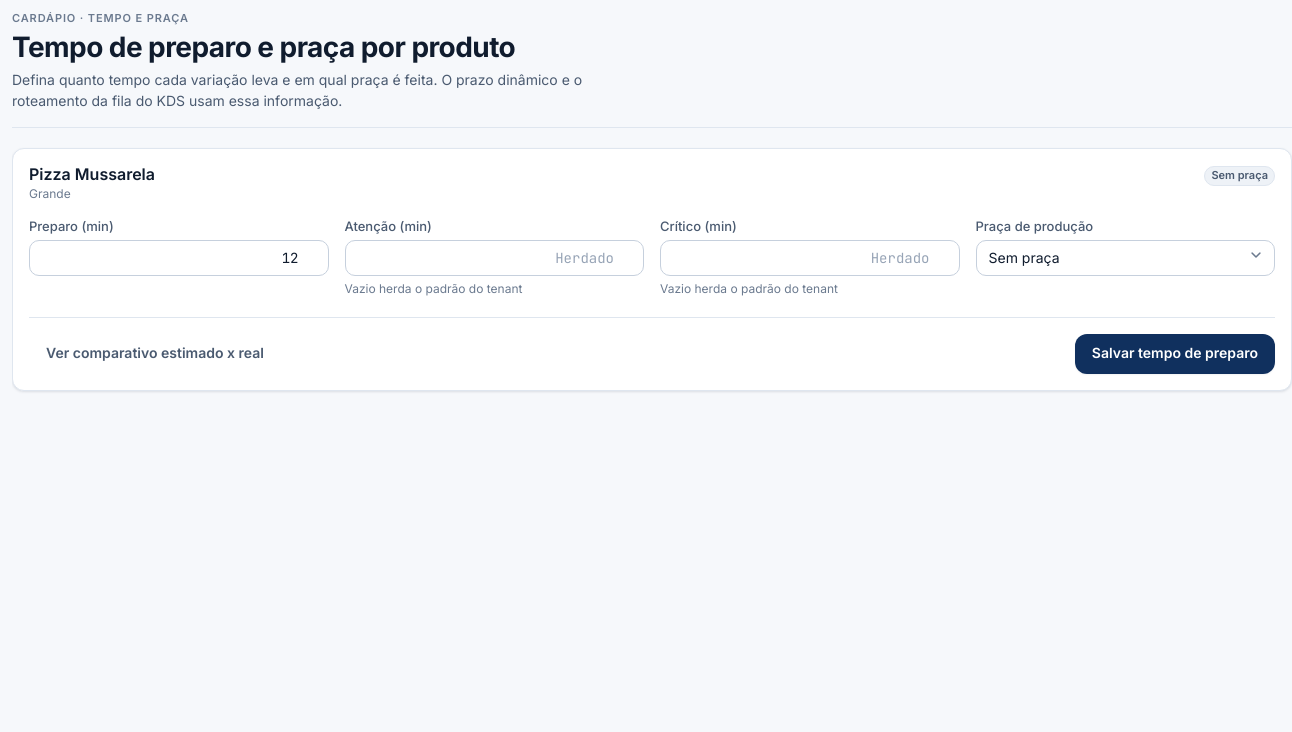
Test: PrepTimePage › carrega e alterna o painel de comparativo estimado versus real
The image size is (1292, 732).
Click the button "Ver comparativo estimado x real" at point(155, 354), box top-left (29, 334), bottom-right (281, 374)
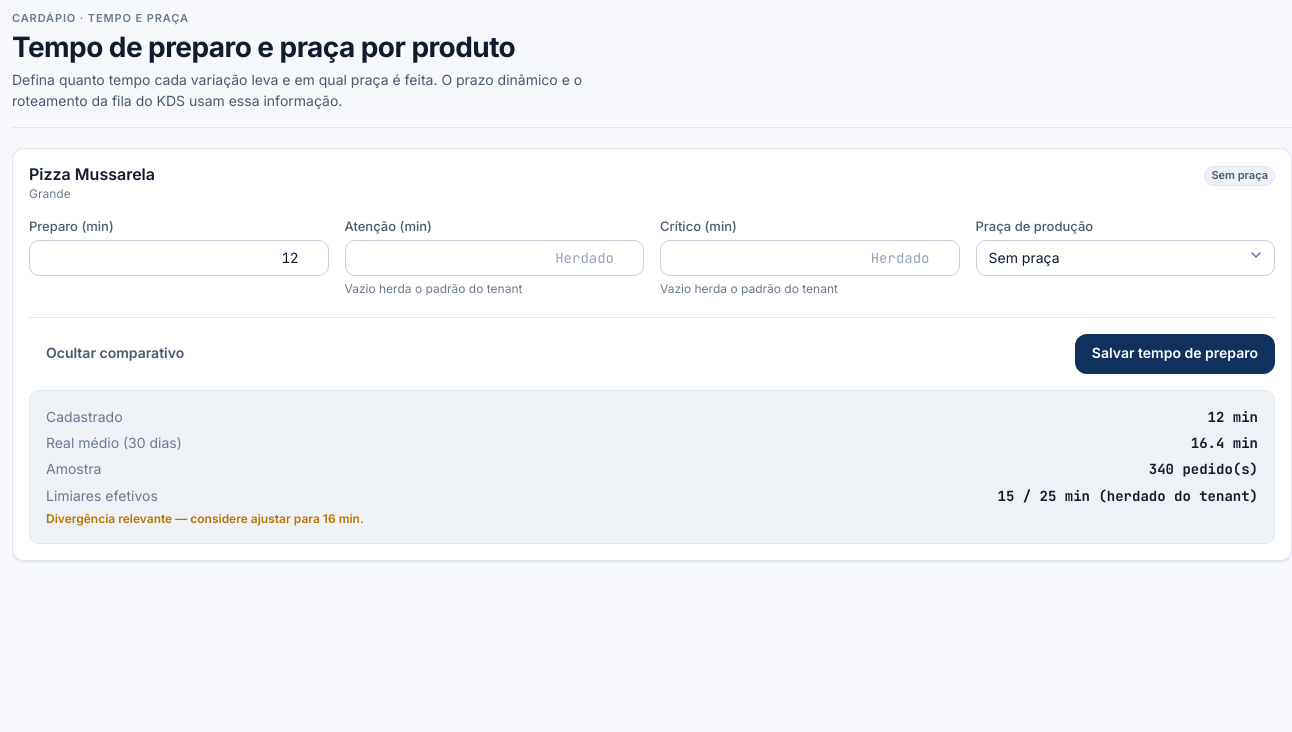
Result: the text "Divergência relevante — considere ajustar para 16 min." is shown at top-left (46, 511), bottom-right (364, 526)
Result: the text "340 pedido(s)" is shown at top-left (1149, 459), bottom-right (1258, 480)
Click the button "Ocultar comparativo" at point(115, 354), box top-left (29, 334), bottom-right (201, 374)
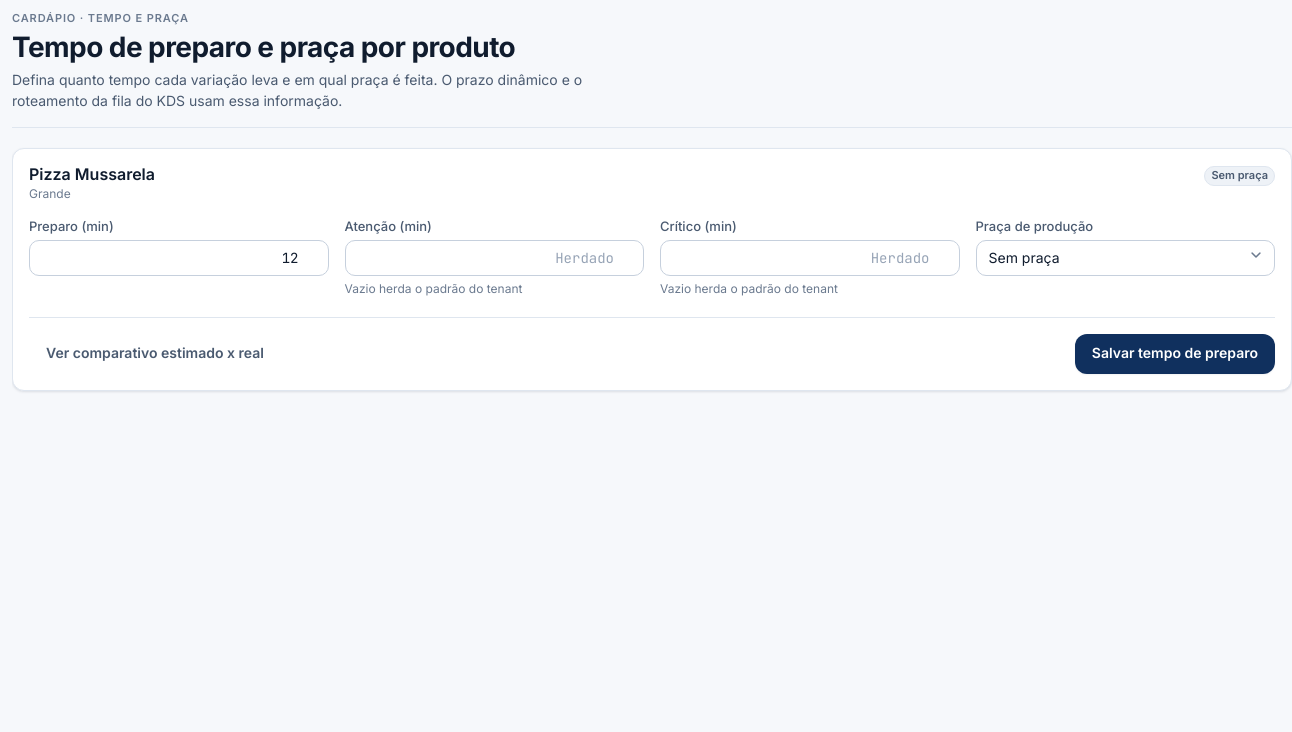
Result: the text "considere ajustar" is gone
